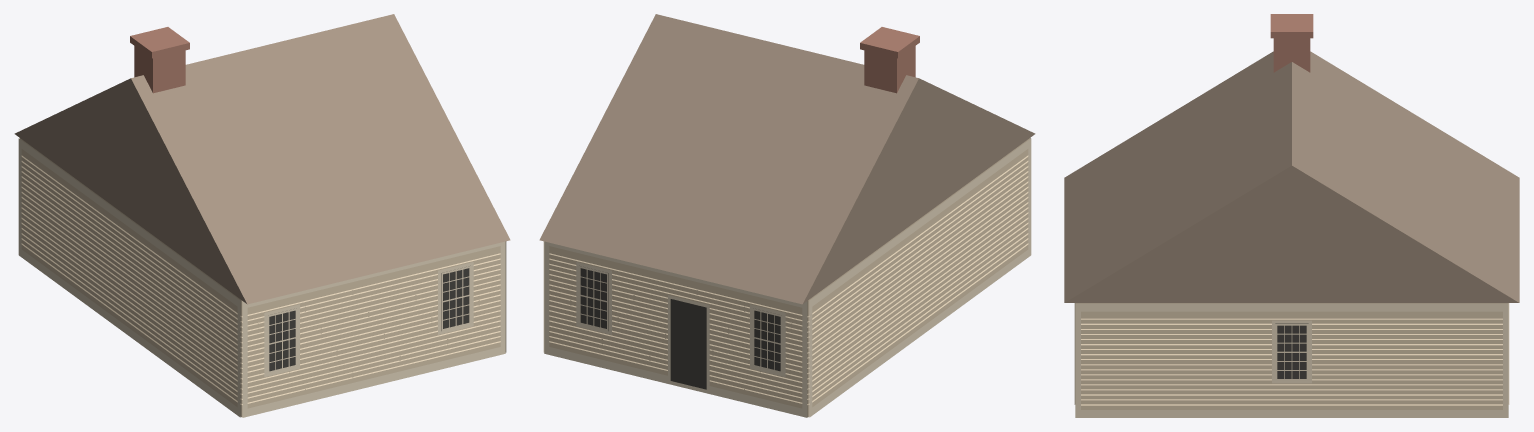
File: recon_1835_blk_school_section_tier_95_d5_04__inferred_1835.glb
3 renders of one model, left to right at view 1: azimuth 30°, elevation 25°; view 2: azimuth 150°, elevation 25°; view 3: azimuth 270°, elevation 25°, orthographic. The views are drawn at different scales.
Visible parts, largest first — view 1: recon_1835_blk_school_section_tier_95_d5_04__inferred_1835; view 2: recon_1835_blk_school_section_tier_95_d5_04__inferred_1835; view 3: recon_1835_blk_school_section_tier_95_d5_04__inferred_1835.
Part boxes in pixels (x1,y1,x2,y2): recon_1835_blk_school_section_tier_95_d5_04__inferred_1835: (14, 14, 510, 417); recon_1835_blk_school_section_tier_95_d5_04__inferred_1835: (539, 14, 1035, 417); recon_1835_blk_school_section_tier_95_d5_04__inferred_1835: (1064, 14, 1519, 417).
Size of the model in its own units: 6.86 by 7.13 by 10.39.
